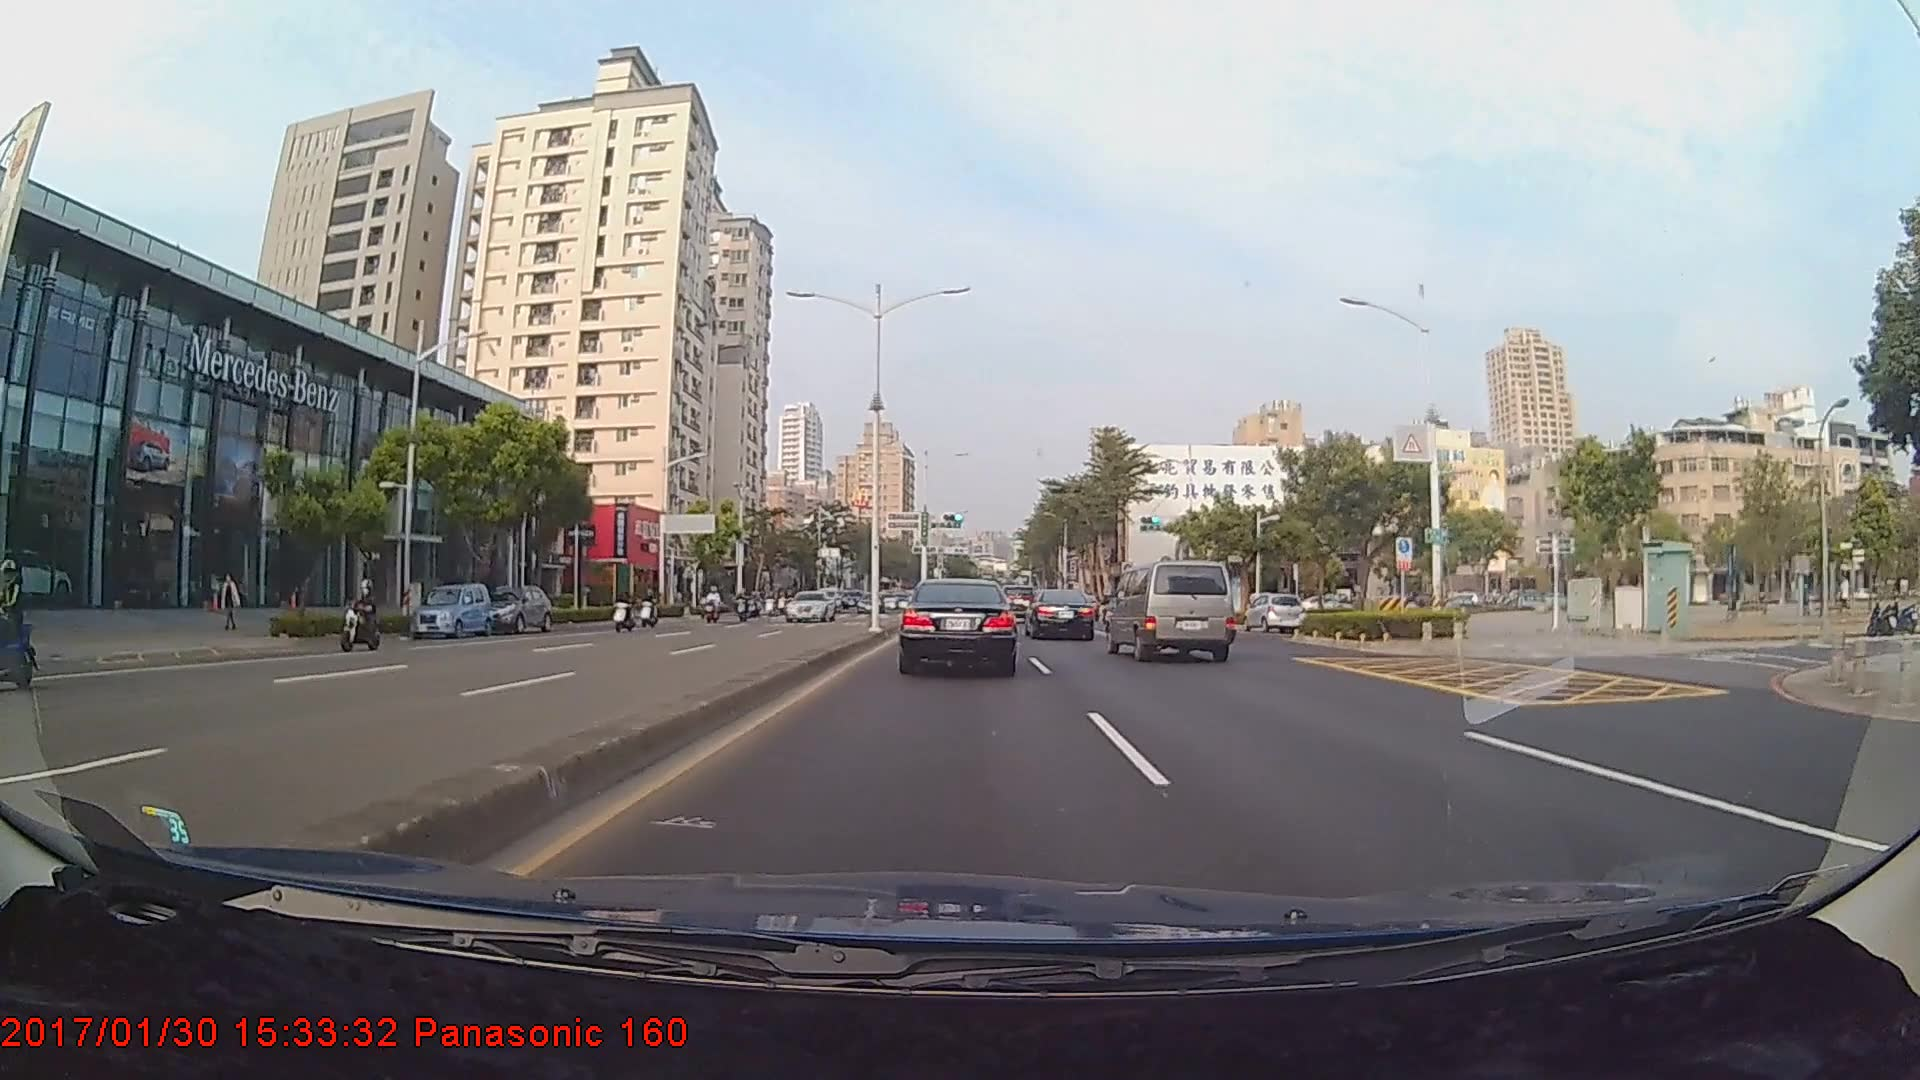pedestrian: (219, 572, 243, 633)
rider: (332, 579, 387, 659), (605, 586, 642, 638), (636, 584, 663, 631)
vehicle: (1105, 558, 1235, 663), (898, 578, 1019, 675), (410, 581, 491, 637), (475, 583, 555, 636), (1025, 587, 1097, 641), (1244, 592, 1304, 633), (784, 590, 835, 620)
